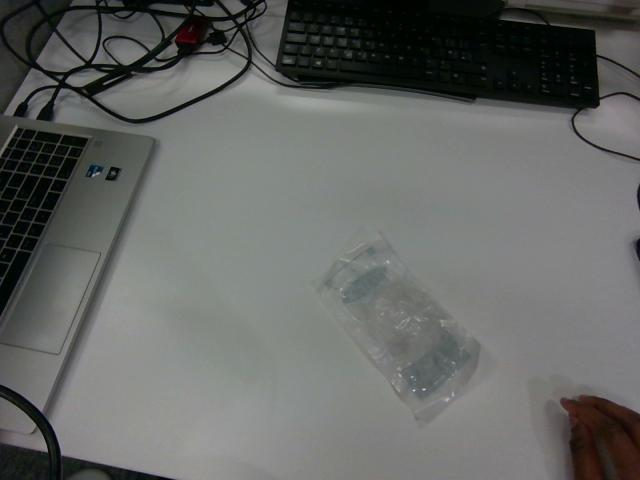gallipot: (316, 233, 479, 421)
